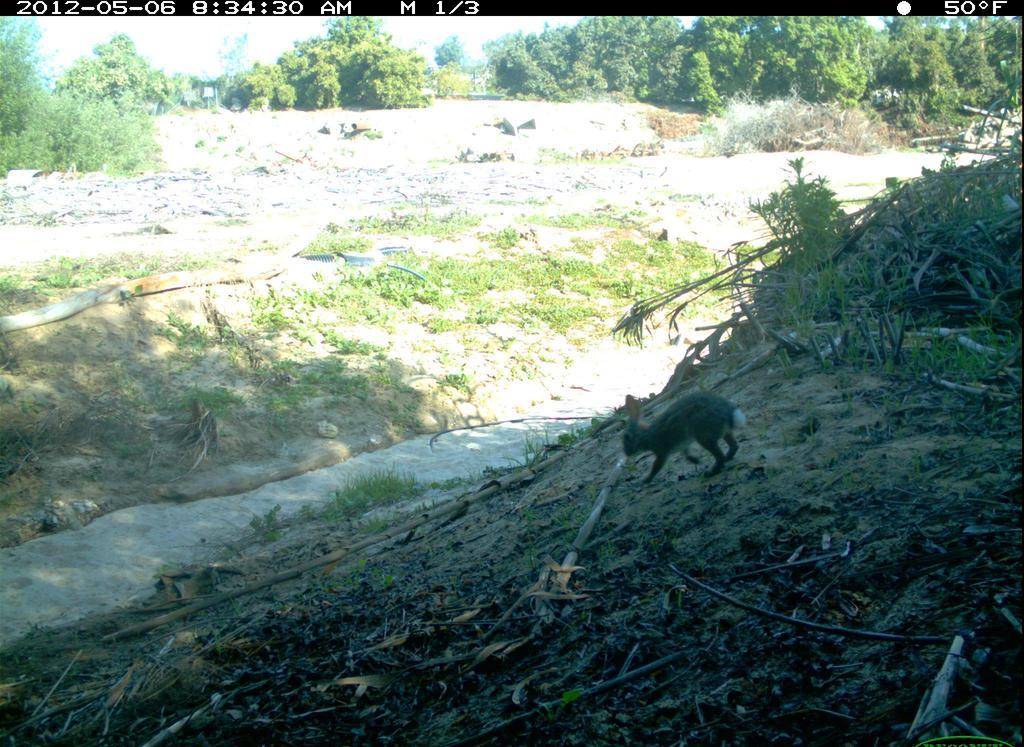rabbit: (612, 381, 752, 493)
